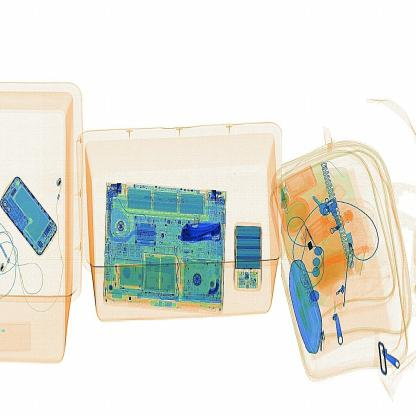knife: (170, 206, 224, 256)
